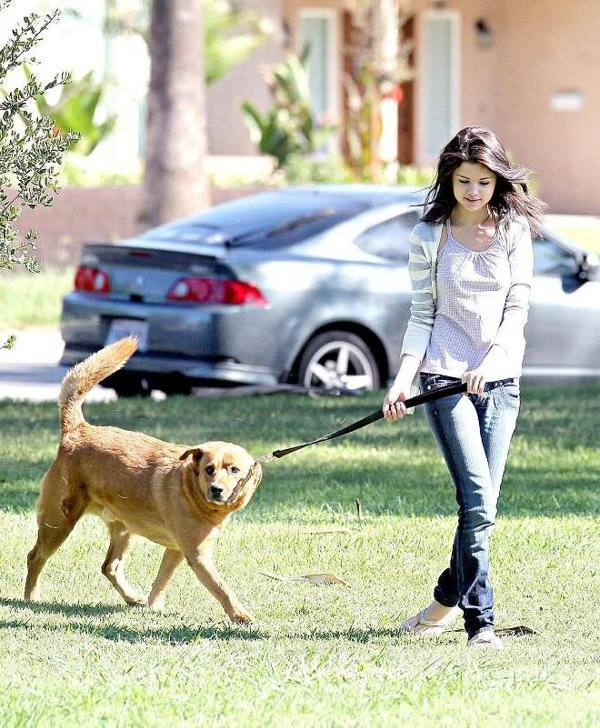person: (385, 129, 531, 652)
